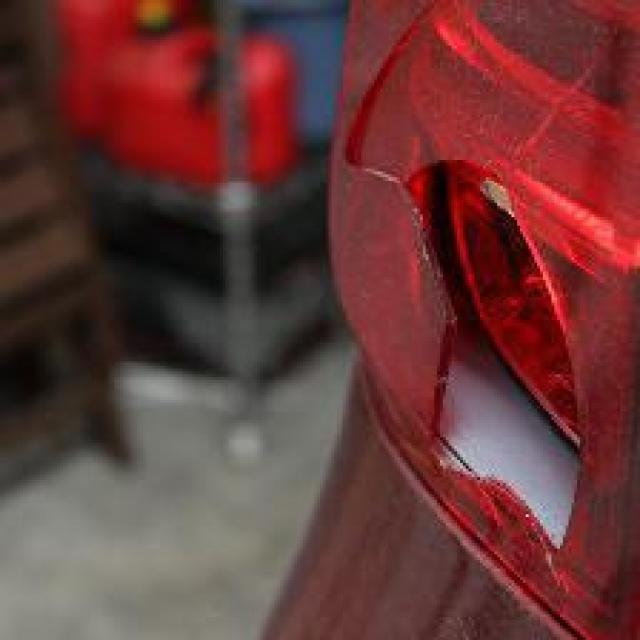damaged: (337, 46, 600, 588)
